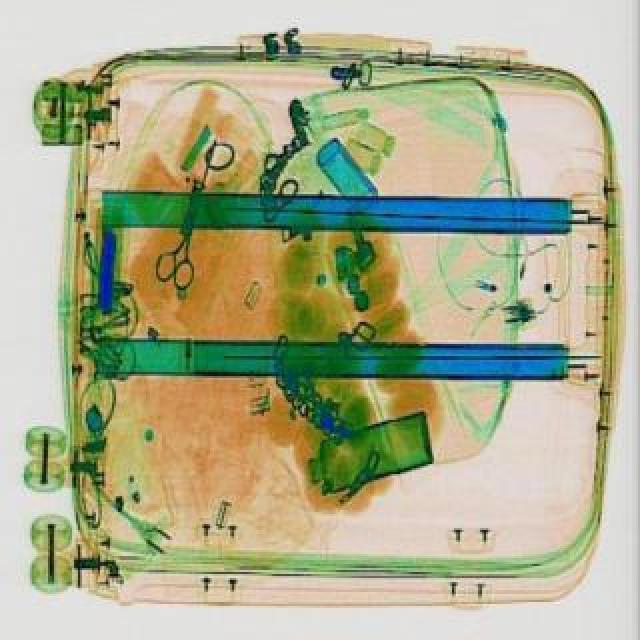pliers: (152, 184, 224, 296)
